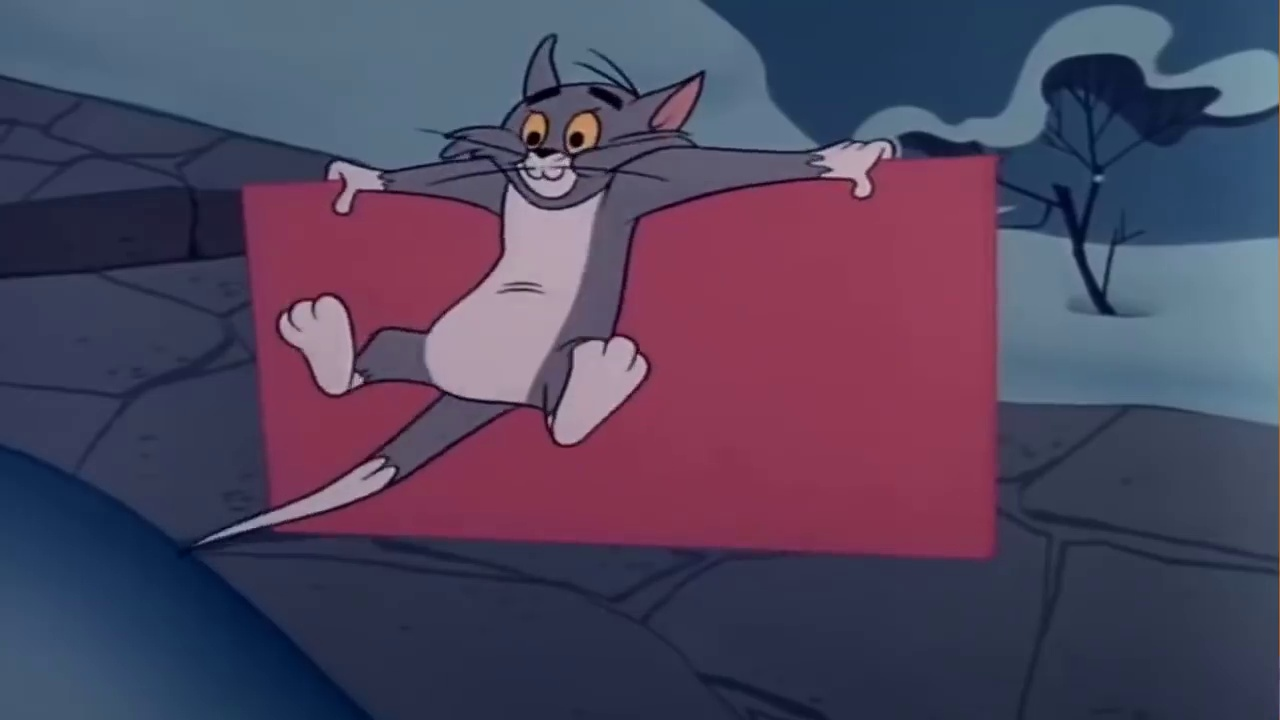face: (510, 80, 629, 210)
